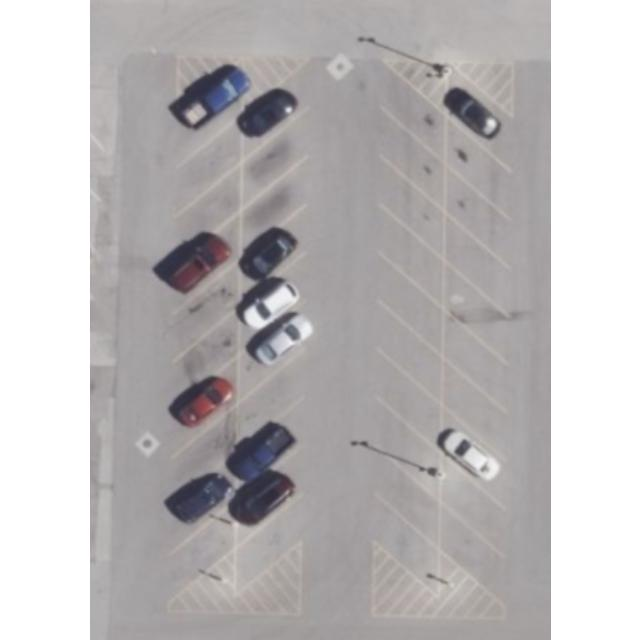Empty: (174, 112, 245, 219), (370, 444, 442, 549), (234, 350, 302, 458), (373, 399, 443, 503), (377, 348, 443, 454), (445, 164, 511, 269), (442, 359, 509, 462), (174, 258, 240, 362), (168, 405, 236, 505), (442, 310, 508, 413), (444, 213, 510, 316), (379, 252, 443, 358), (372, 495, 439, 596), (440, 504, 506, 606), (378, 299, 442, 404), (382, 108, 446, 213), (444, 262, 509, 365), (168, 503, 236, 601), (446, 115, 510, 219), (240, 158, 307, 257), (234, 497, 301, 595), (174, 164, 241, 261), (240, 112, 306, 210), (174, 305, 238, 406), (381, 207, 444, 309), (441, 454, 504, 556), (383, 62, 445, 163), (382, 160, 444, 260)
Parked: (165, 66, 249, 170), (236, 300, 305, 403), (237, 253, 306, 353), (240, 204, 307, 305), (441, 406, 506, 510), (167, 461, 237, 556), (175, 212, 239, 314), (447, 72, 512, 171), (234, 451, 301, 547), (236, 401, 302, 494), (177, 355, 237, 454), (241, 78, 308, 161)
